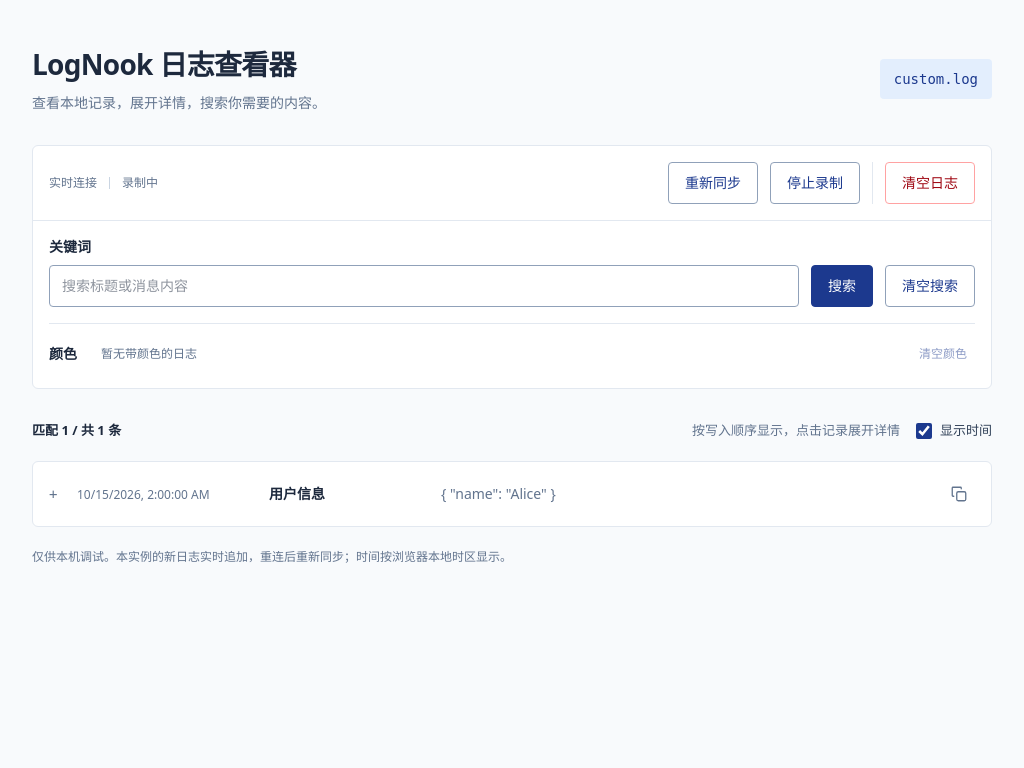
Scenario: recording errors appear below the toolbar without displacing action controls
The image size is (1024, 768).
Click the button "停止录制": click(815, 183) 770,162 -> 860,204
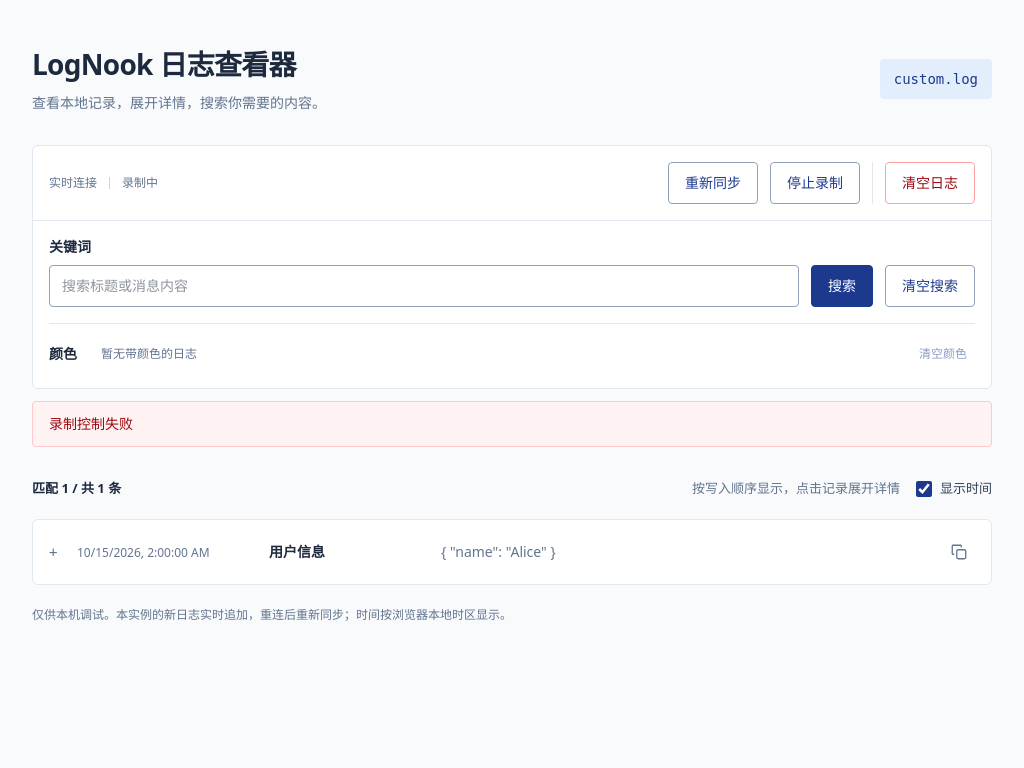
Expected: the button "清空日志" is enabled, 885,162 -> 975,204
Expected: the message reads "录制控制失败", 49,414 -> 133,433
